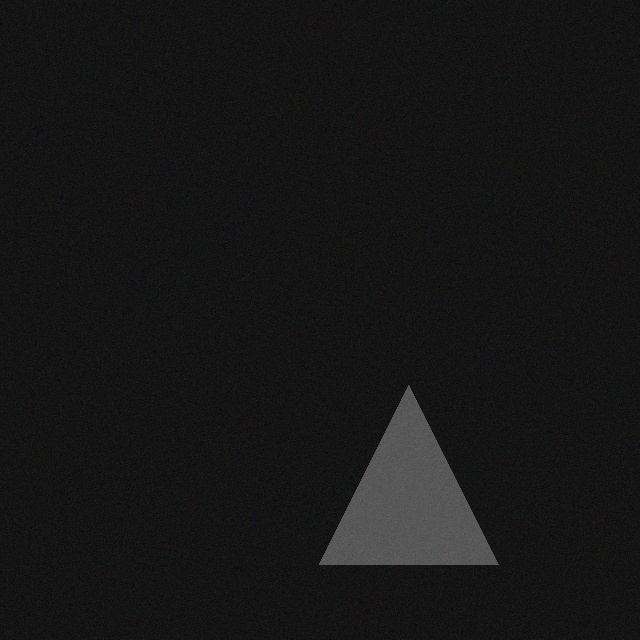triangle: (332, 388, 511, 567)
